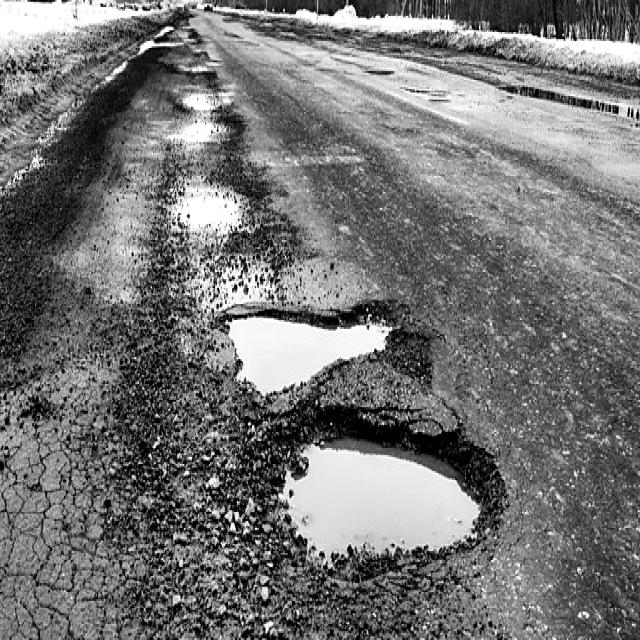pathole: (200, 282, 503, 592), (169, 34, 275, 293)
